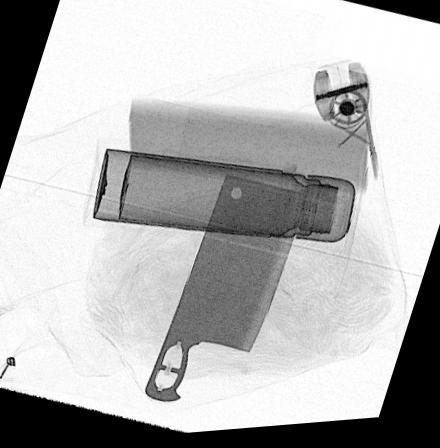Knife: (143, 177, 311, 406)
